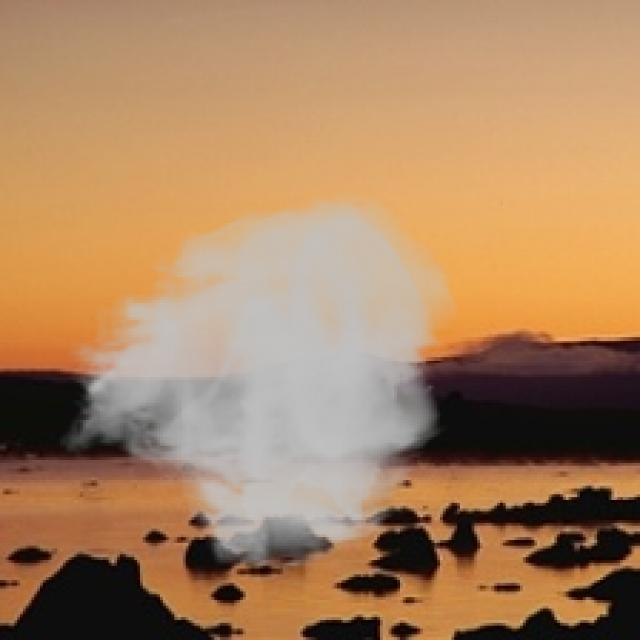smoke: (57, 192, 460, 572)
